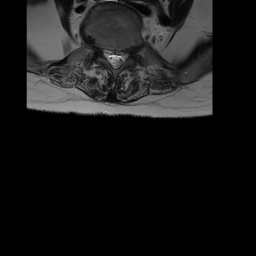CCS_normal: (111, 40, 117, 74)
LFS_stenosis: (125, 41, 131, 64)
LLS_normal: (117, 41, 125, 70)
RFS_severe_stenosis: (97, 40, 104, 60)
RLS_normal: (104, 41, 111, 69)
